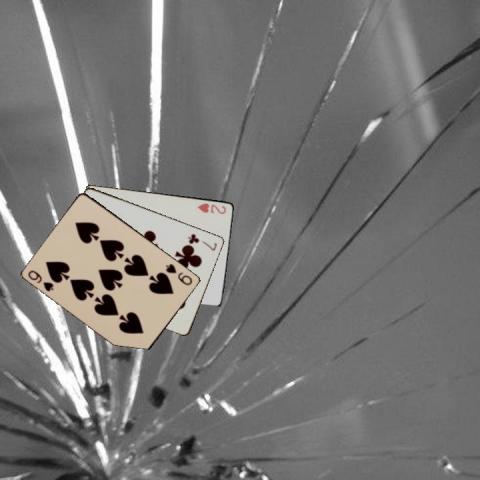2h: (195, 200, 227, 215)
7c: (185, 231, 219, 252)
9s: (163, 260, 194, 286), (26, 267, 56, 293)
